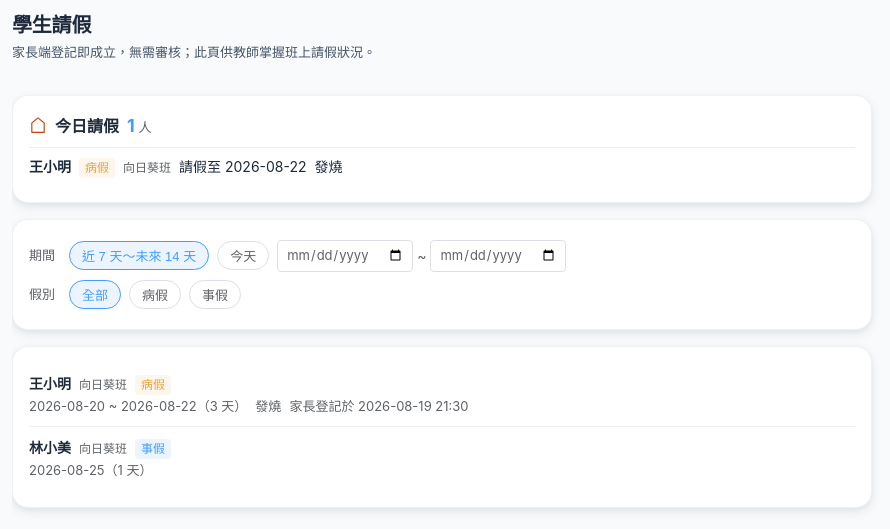
Test case: PortalStudentLeavesView › 假別篩選只影響清單，不重新打 API
Click the button with test id "type-chip" showing "病假" at (155, 294), box [129,280,181,309]
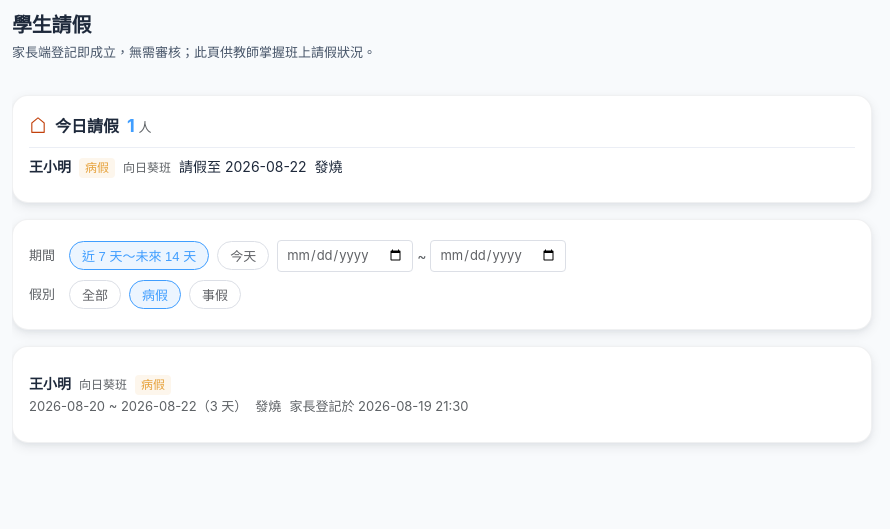
Expected: the list item with test id "leave-row" shows "王小明", [29,375,71,392]
Now the number of list items with test id "leave-row" is 1, box [29,375,469,414]
